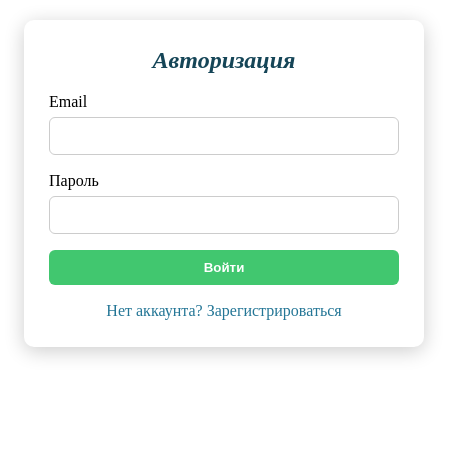
Test case: AuthForm › переключается между авторизацией и регистрацией
Expected: the heading "Авторизация" is shown, [153,47,296,73]
Step 1. Click the text "Нет аккаунта? Зарегистрироваться" → point(224, 311), box [106,301,342,322]
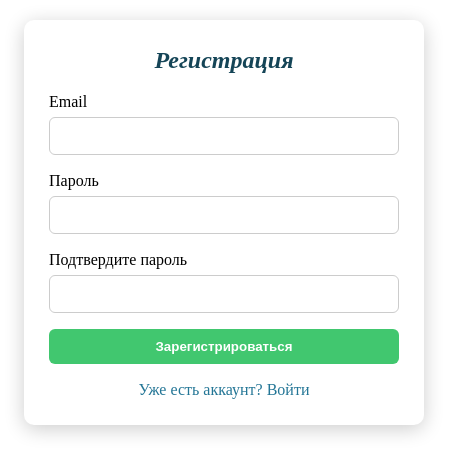
Expected: the heading "Регистрация" is shown, [154,47,294,73]
Step 2. Click the text "Уже есть аккаунт? Войти" → point(224, 390), box [138,380,309,400]
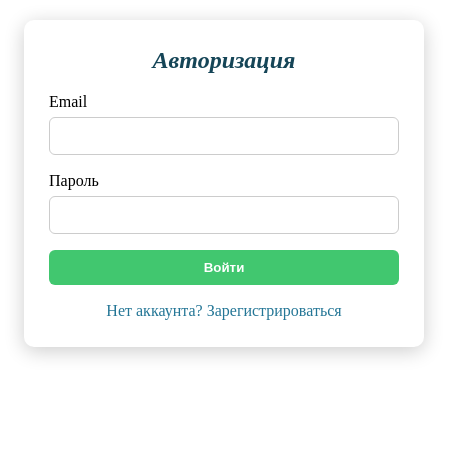
Expected: the heading "Авторизация" is shown, [153,47,296,73]
